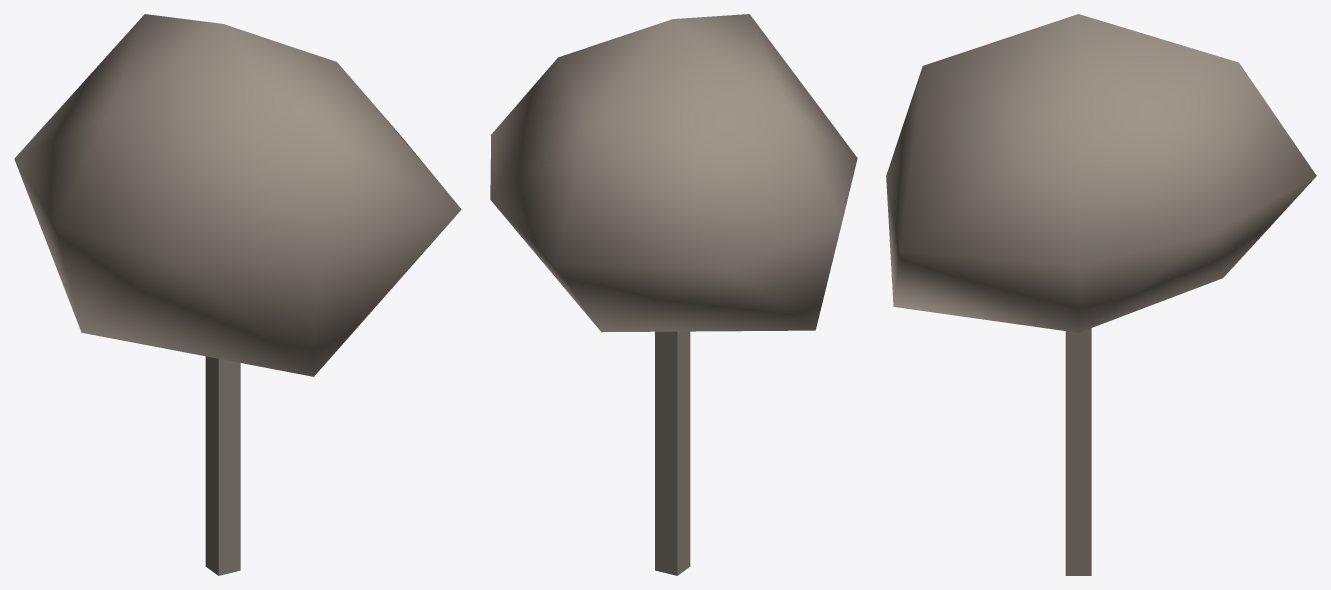
The model's file is tree_far.glb.
3 renders of one model, left to right at view 1: azimuth 30°, elevation 25°; view 2: azimuth 150°, elevation 25°; view 3: azimuth 270°, elevation 25°, orthographic. The views are drawn at different scales.
Visible parts, largest first — view 1: tree_far; view 2: tree_far; view 3: tree_far.
Part boxes in pixels (x1,y1,x2,y2): tree_far: (14, 14, 461, 575); tree_far: (490, 14, 857, 575); tree_far: (886, 14, 1316, 575).
Bounding box in the file's own units: 4.72 × 7.05 × 4.95.
